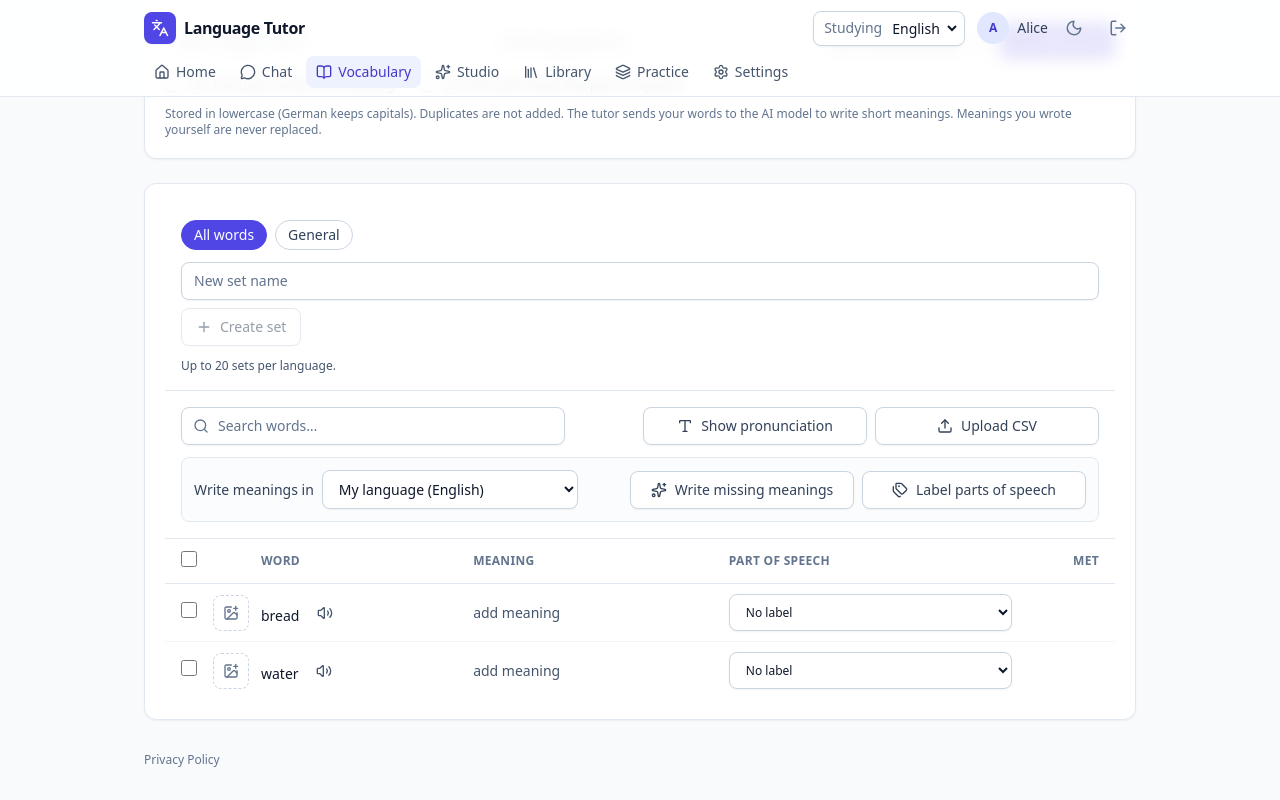
Scenario: vocabulary page › deletes the selected words immediately and restores them if the server fails
(page scrolled)
Step 1. Click the checkbox named "Select bread" → point(189, 610), box x1=181 y1=602 x2=197 y2=618
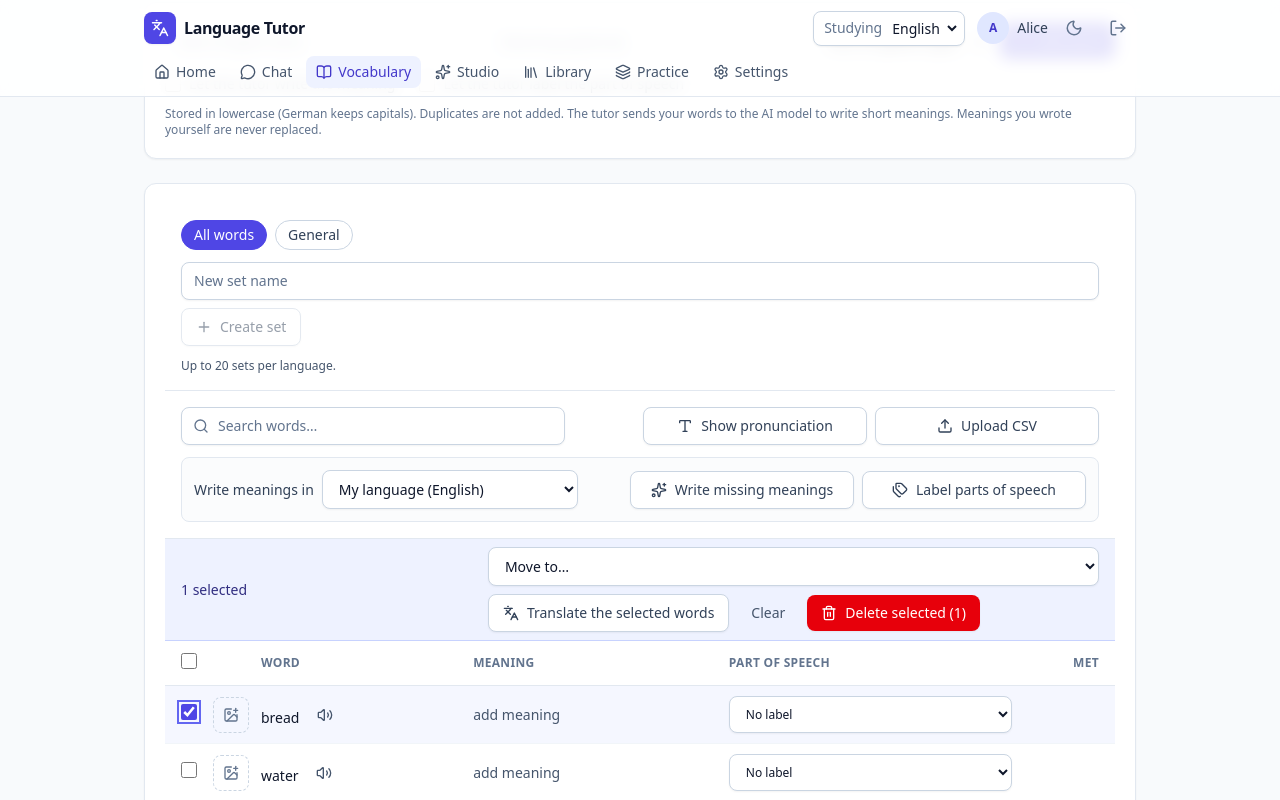
Step 2. Click the button "Delete selected (1)" → point(894, 613), box x1=807 y1=595 x2=980 y2=631
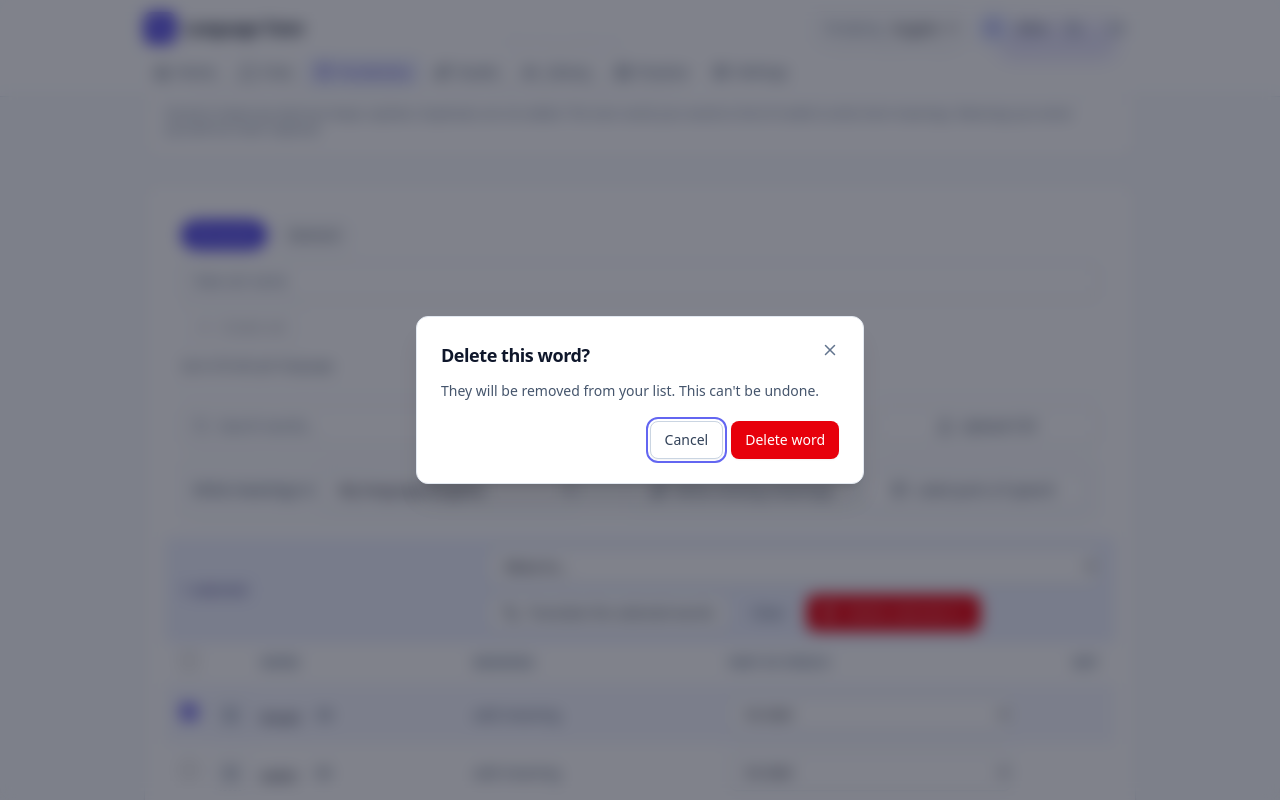
Step 3. Click the button "Delete word" → point(785, 440), box x1=731 y1=421 x2=839 y2=459
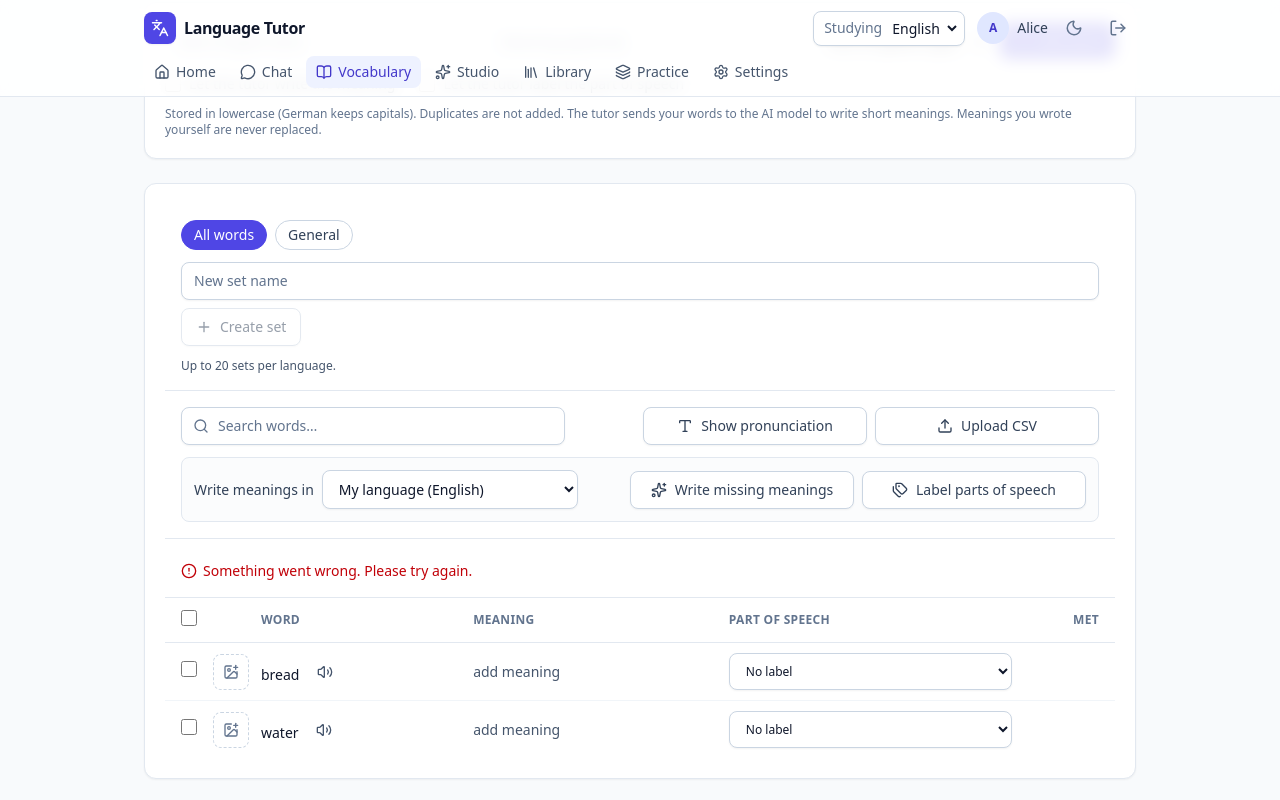
Expected: the text "bread" is shown, x1=261 y1=664 x2=300 y2=684
Result: the message shows "Something went wrong." at x1=203 y1=561 x2=472 y2=580
